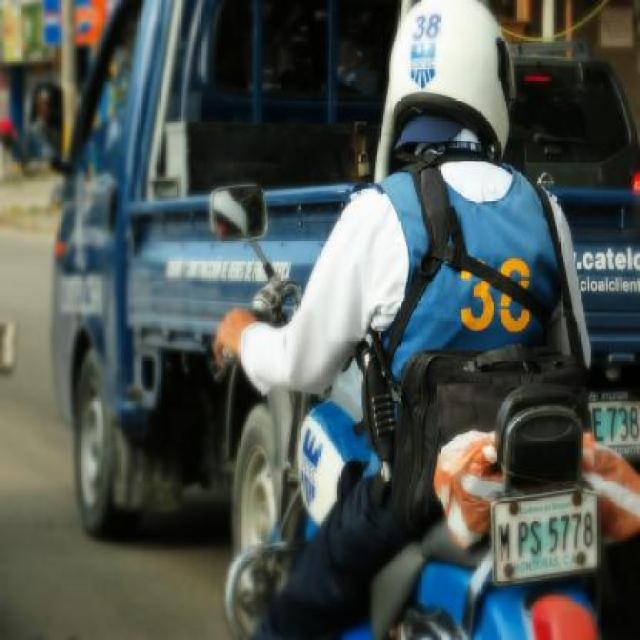bus: (221, 72, 614, 639)
